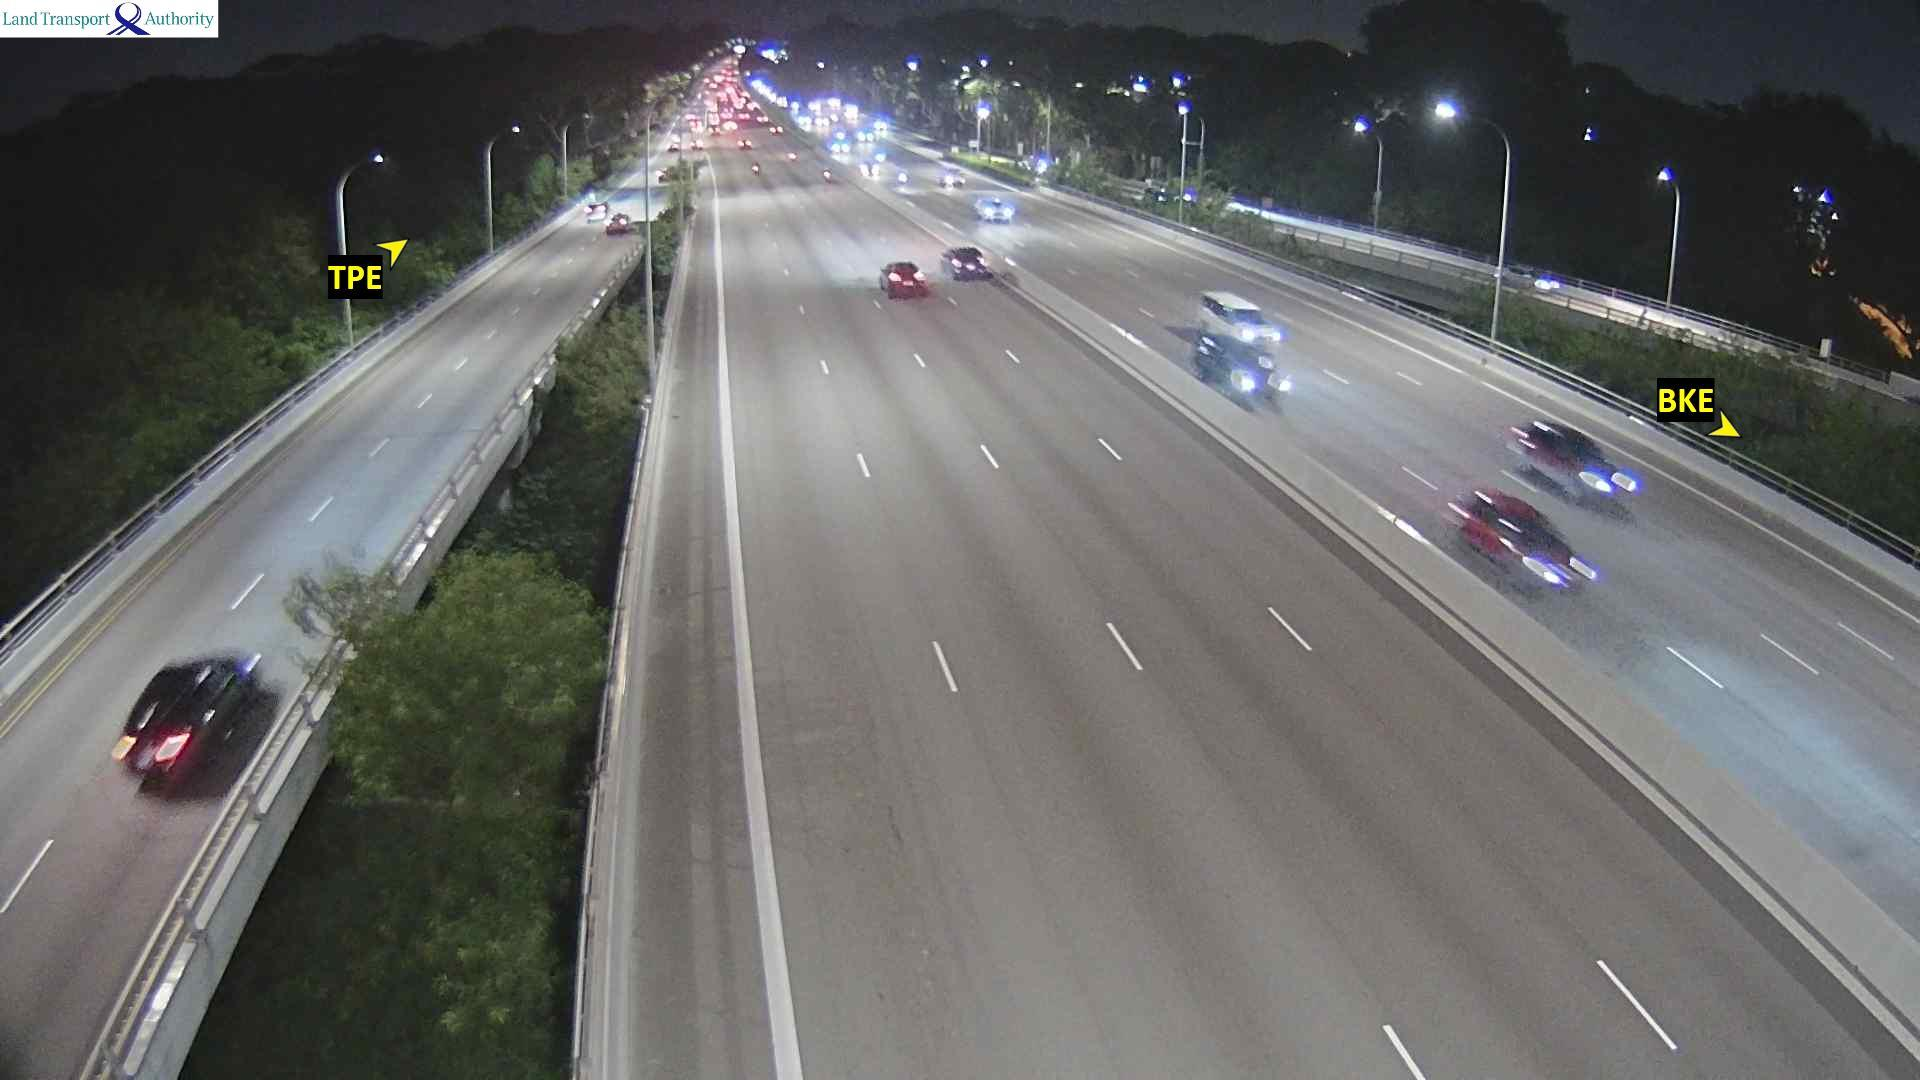cars: (110, 648, 262, 789), (1446, 485, 1598, 594), (1503, 418, 1642, 519), (1192, 289, 1284, 407), (1196, 289, 1284, 347), (878, 260, 929, 299), (940, 245, 992, 281), (858, 153, 909, 184), (973, 194, 1015, 223), (1025, 149, 1055, 175), (936, 164, 965, 188), (1224, 199, 1262, 216), (1142, 178, 1168, 202), (604, 211, 631, 233), (1533, 271, 1561, 291), (584, 198, 609, 220), (895, 168, 909, 184), (737, 136, 752, 150), (768, 122, 782, 134)
motorcycle: (821, 167, 832, 182), (749, 161, 760, 174), (786, 149, 796, 161)
